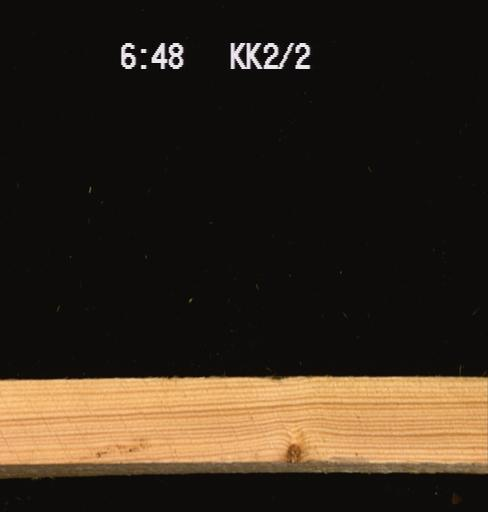edge_knot: (284, 441, 301, 466)
